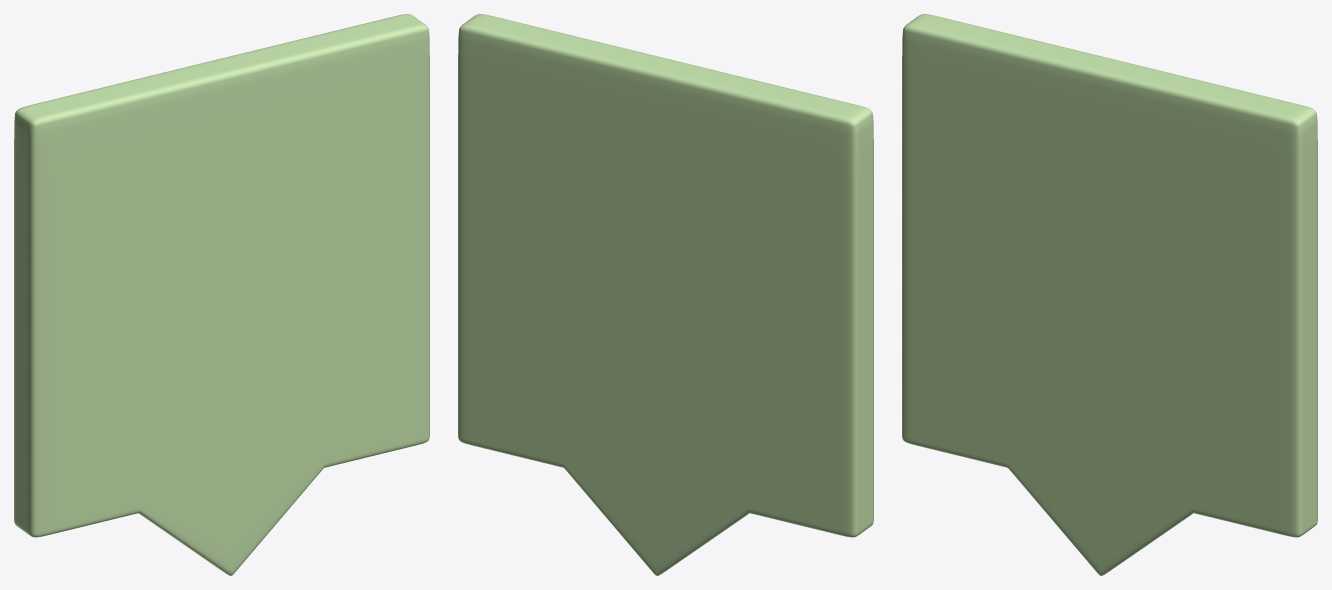
Rendered from tooltip.glb.
3 views of the same model, side by side, from view 1: azimuth 30°, elevation 25°; view 2: azimuth 150°, elevation 25°; view 3: azimuth 330°, elevation 25° (orthographic).
Visible parts, largest first — view 1: WetPrairies_Tooltip; view 2: WetPrairies_Tooltip; view 3: WetPrairies_Tooltip.
Boxes of the visible parts, x1=… form: WetPrairies_Tooltip: x1=14, y1=14, x2=429, y2=575; WetPrairies_Tooltip: x1=458, y1=14, x2=873, y2=575; WetPrairies_Tooltip: x1=902, y1=14, x2=1317, y2=575.
Bounding box in the file's own units: 1.09 × 1.31 × 0.0992.
